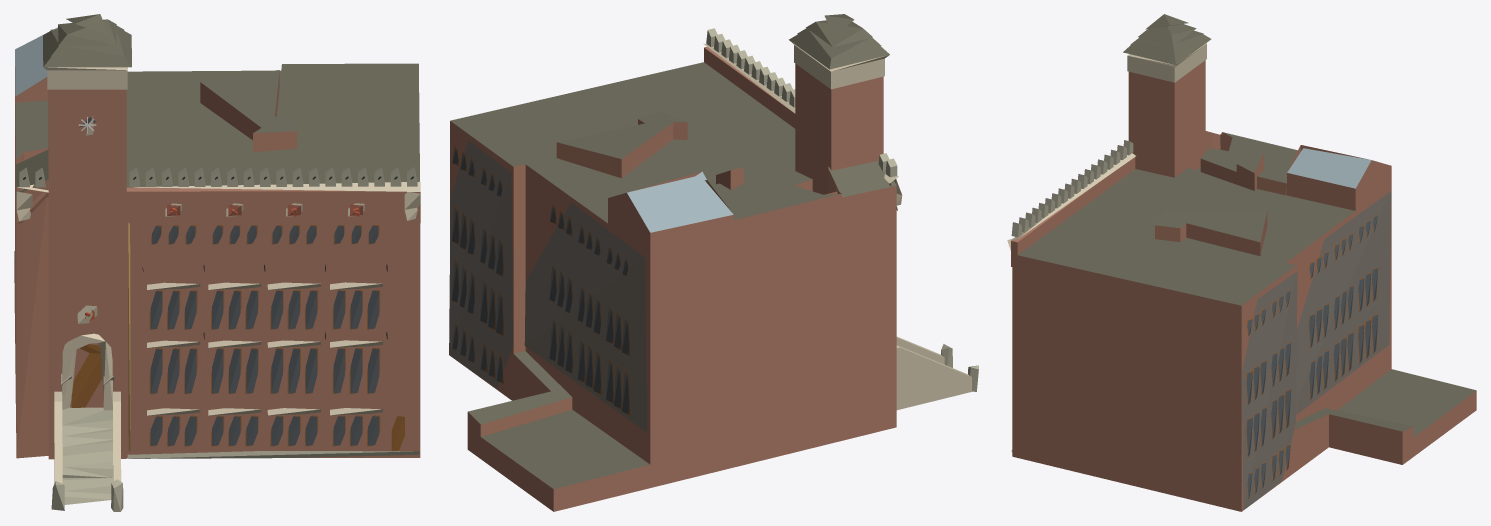
Rendered from de-burcht.lod1.glb.
3 views of the same model, side by side, from view 1: azimuth 30°, elevation 25°; view 2: azimuth 150°, elevation 25°; view 3: azimuth 270°, elevation 25° (orthographic). The views are drawn at different scales.
Visible parts, largest first — view 1: de-burcht; view 2: de-burcht; view 3: de-burcht.
Boxes of the visible parts, <box> form: de-burcht: <box>14,14,420,511</box>; de-burcht: <box>449,14,978,511</box>; de-burcht: <box>1007,14,1476,511</box>.
Size of the model in its own units: 30.62 by 26.5 by 32.81.
